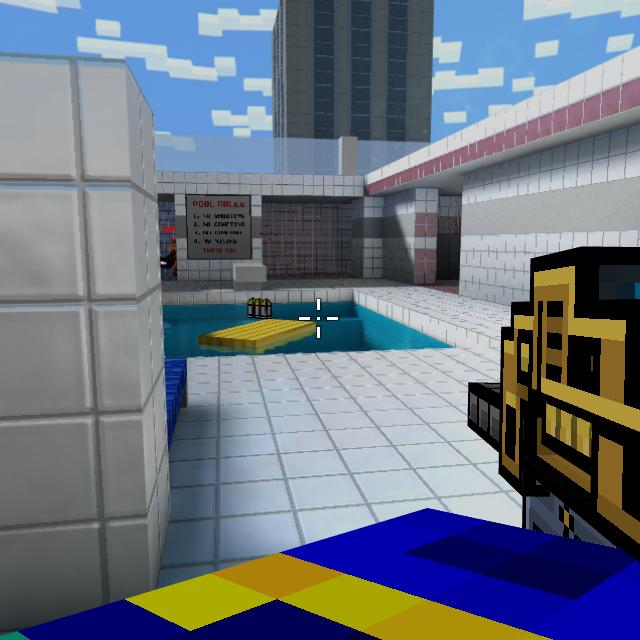Enemy: (167, 238, 177, 277)
